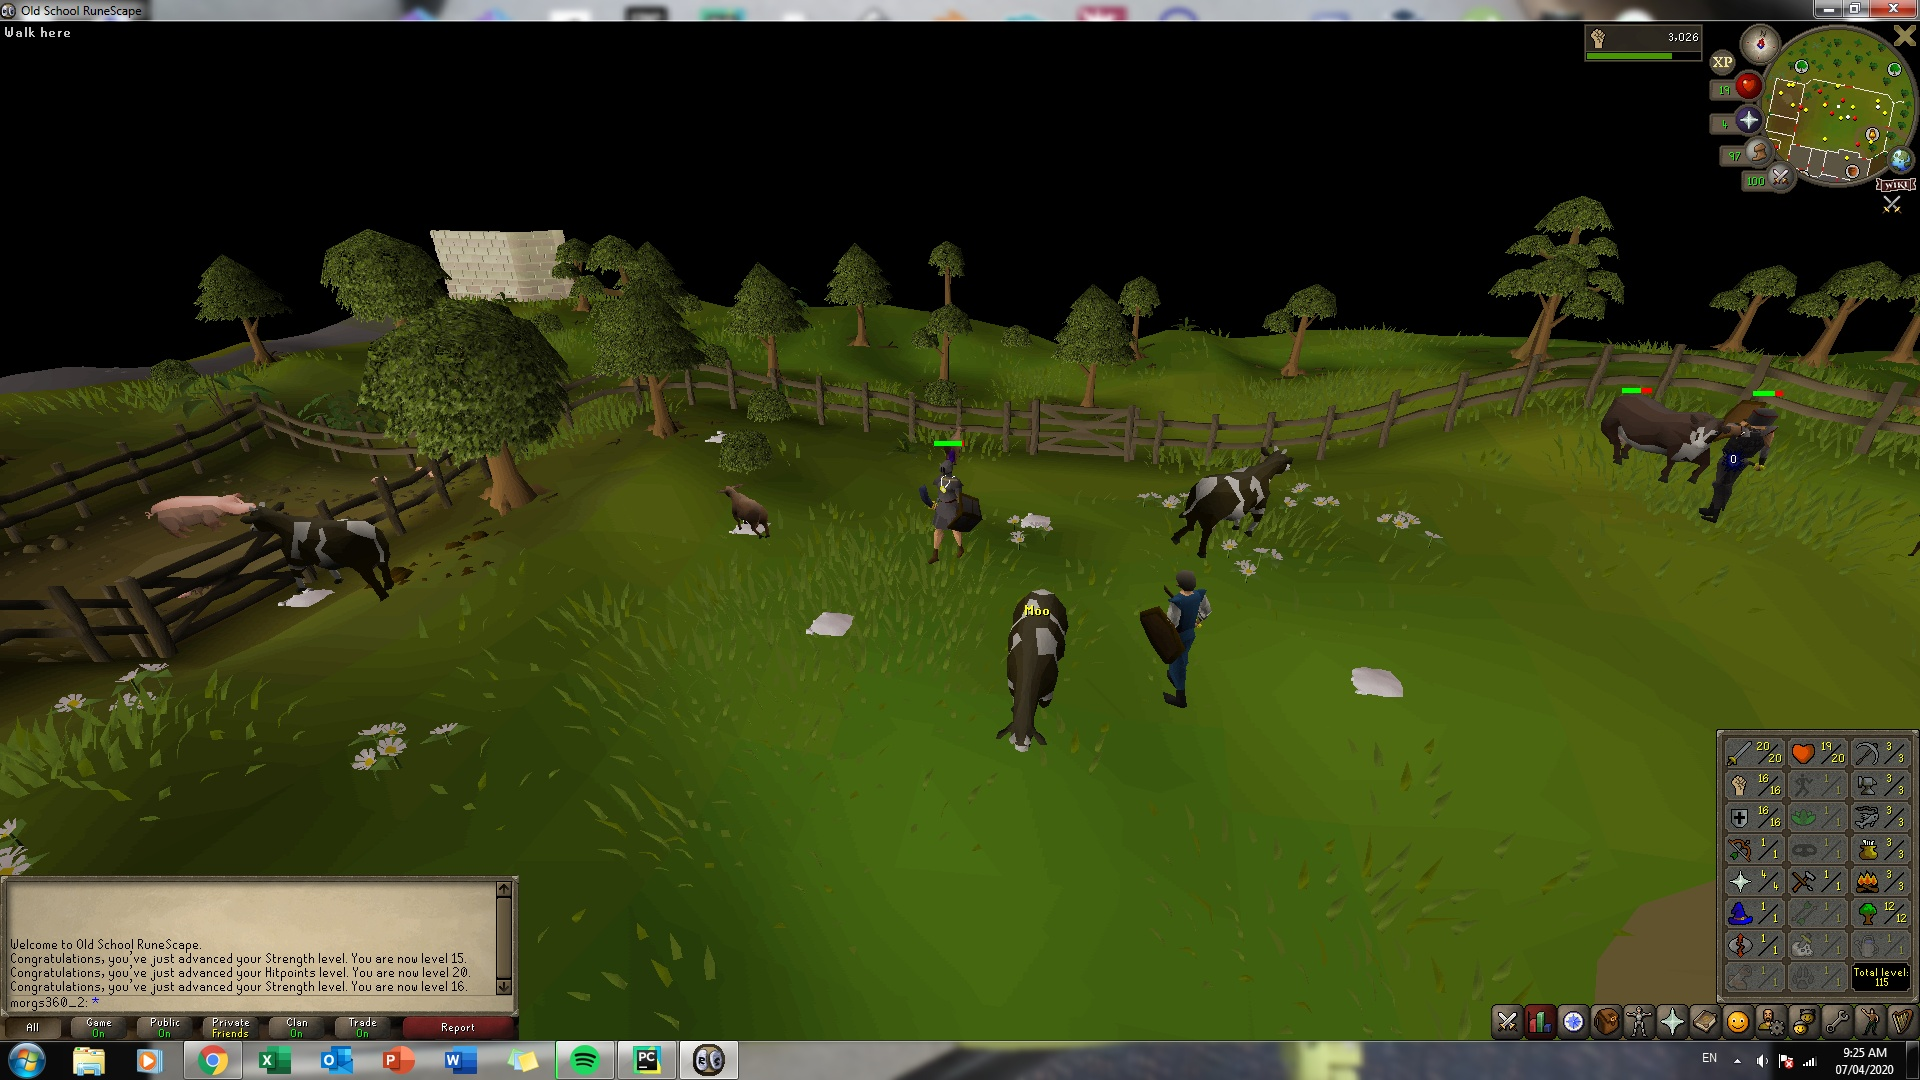cow: (241, 502, 396, 603), (1171, 443, 1298, 564), (994, 585, 1073, 761), (1601, 389, 1718, 489)
